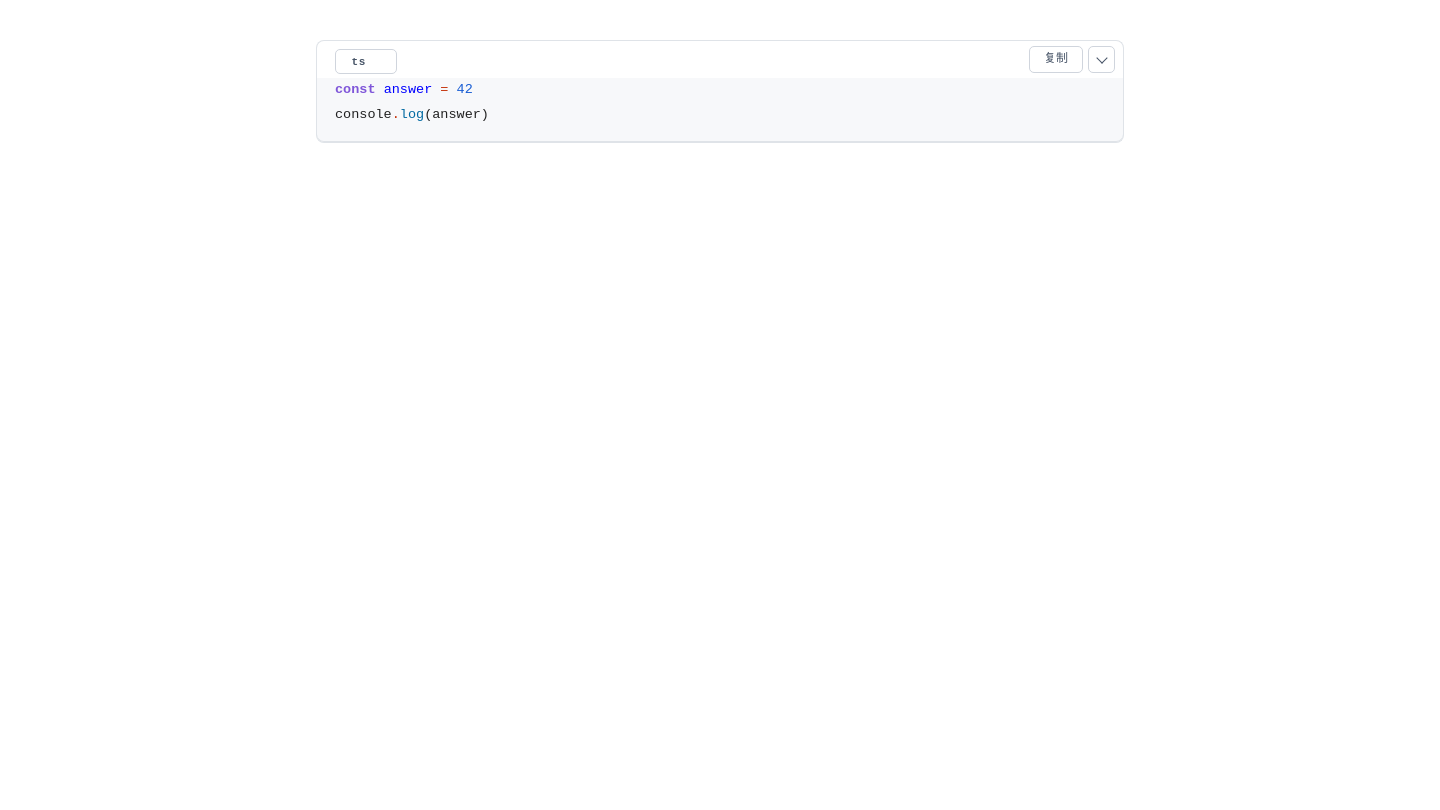
Test: Editor › Markdown 语法高亮 › 应该折叠并展开所见即所得代码块
Step 1. Click the button named "折叠代码块" → (1102, 60), box x1=1088 y1=46 x2=1115 y2=73
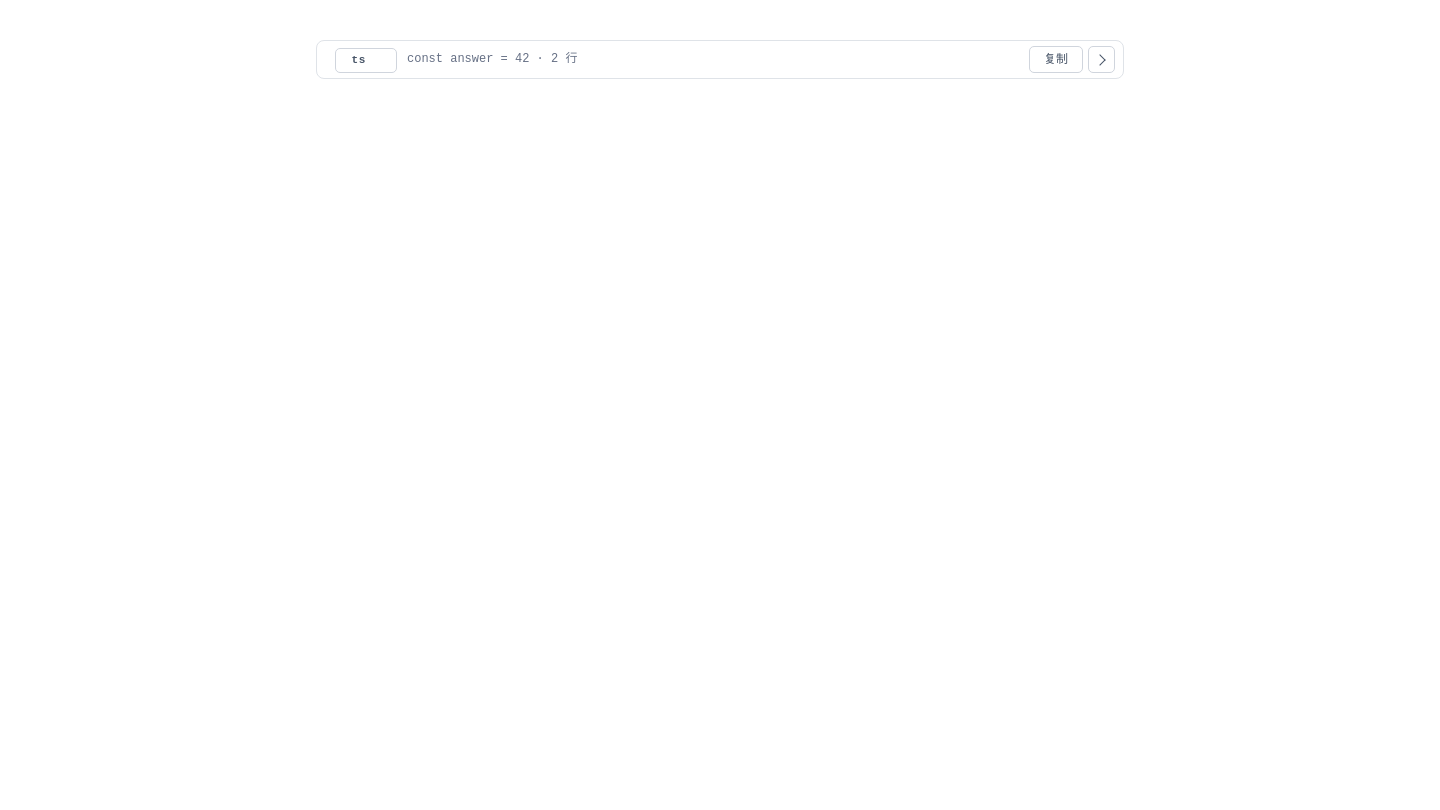
Check: the element with test id "editor-container" no longer shows "console.log(answer)"
Check: the text with class "cm-code-collapse-summary" reads "const answer = 42 · 2 行", box x1=407 y1=52 x2=577 y2=66
Check: the button named "展开代码块" is collapsed
Step 2. Click the button named "展开代码块" → (1102, 60), box x1=1088 y1=46 x2=1115 y2=73
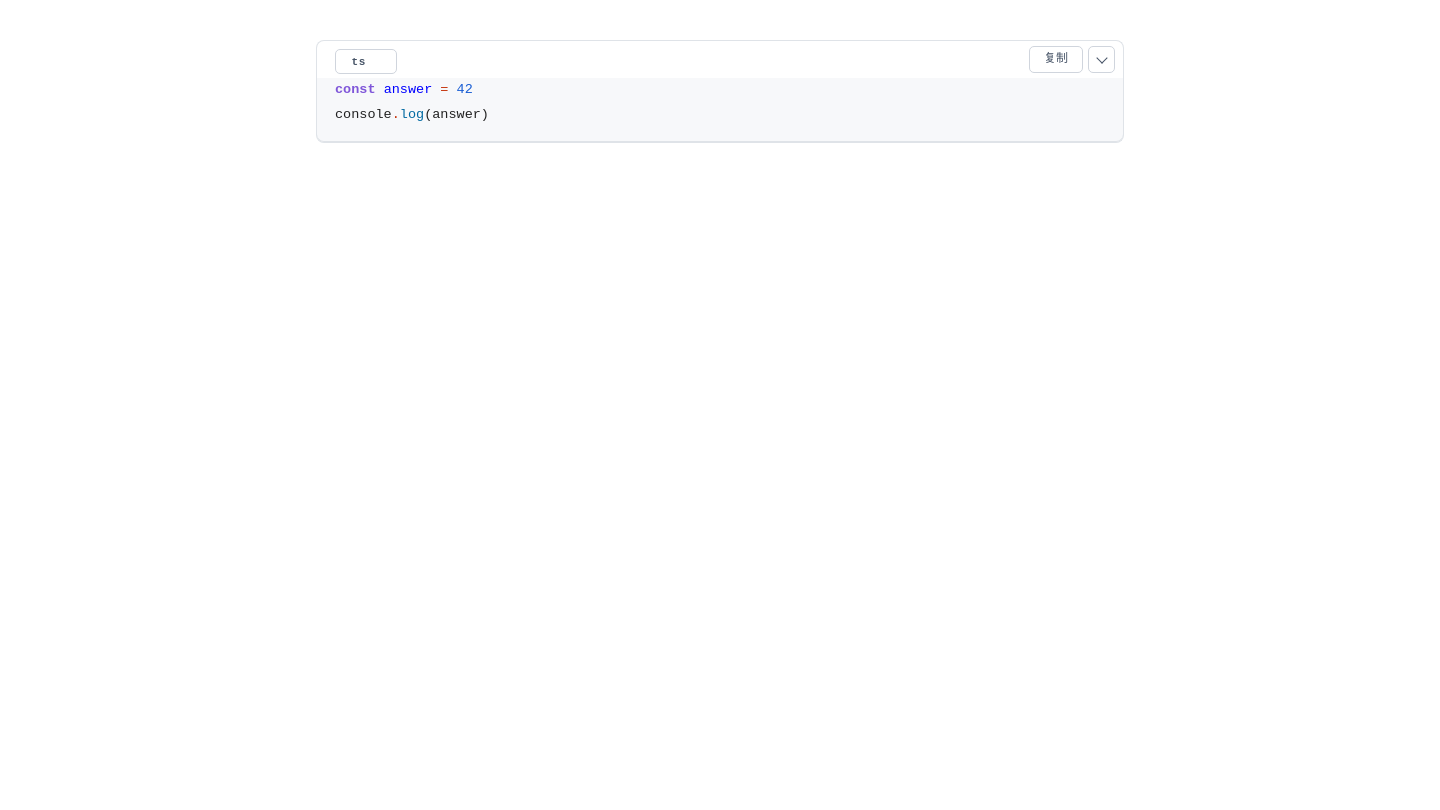
Check: the element with test id "editor-container" shows "console.log(answer)"
